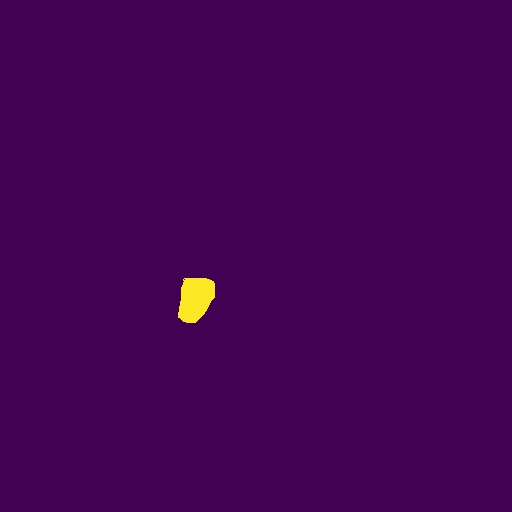Pituirity_tumour: (178, 278, 215, 323)
